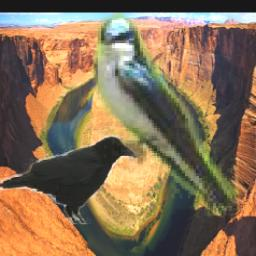Crow: (0, 130, 140, 224)
Swallow: (93, 13, 238, 218)
